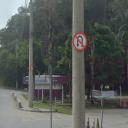NoVirarU: (73, 32, 87, 52)
